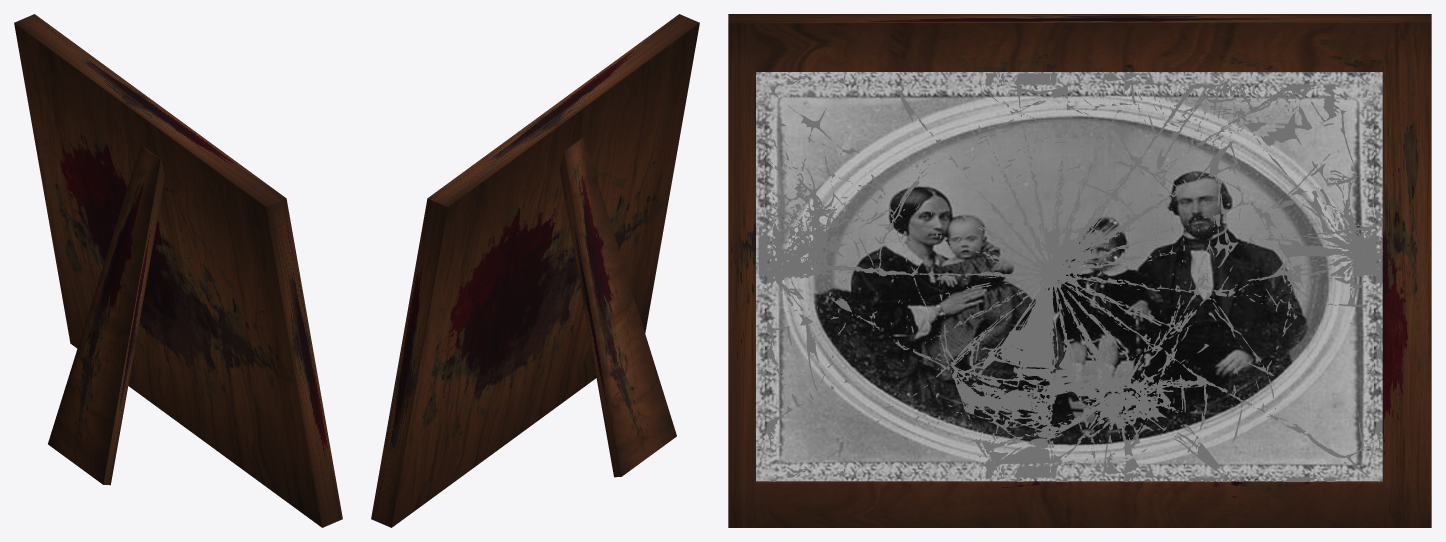
File: CabinPictureFrame.FBX
3 views of the same model, side by side, from view 1: azimuth 30°, elevation 25°; view 2: azimuth 150°, elevation 25°; view 3: azimuth 270°, elevation 25° (orthographic). The views are drawn at different scales.
Visible parts, largest first — view 1: Box058, Box059; view 2: Box058, Box059; view 3: Glass, Box058, Glass001.
Boxes of the visible parts, left/top/right/bottom form: Box058: left=14, top=14, right=342, bottom=527; Box059: left=48, top=145, right=164, bottom=485; Box058: left=371, top=14, right=699, bottom=527; Box059: left=559, top=137, right=676, bottom=477; Glass: left=756, top=72, right=1382, bottom=481; Box058: left=728, top=14, right=1431, bottom=527; Glass001: left=758, top=73, right=1382, bottom=481.
Size of the model in its own units: 6.7 by 14.74 by 19.9.
3 materials, 2 textured.
